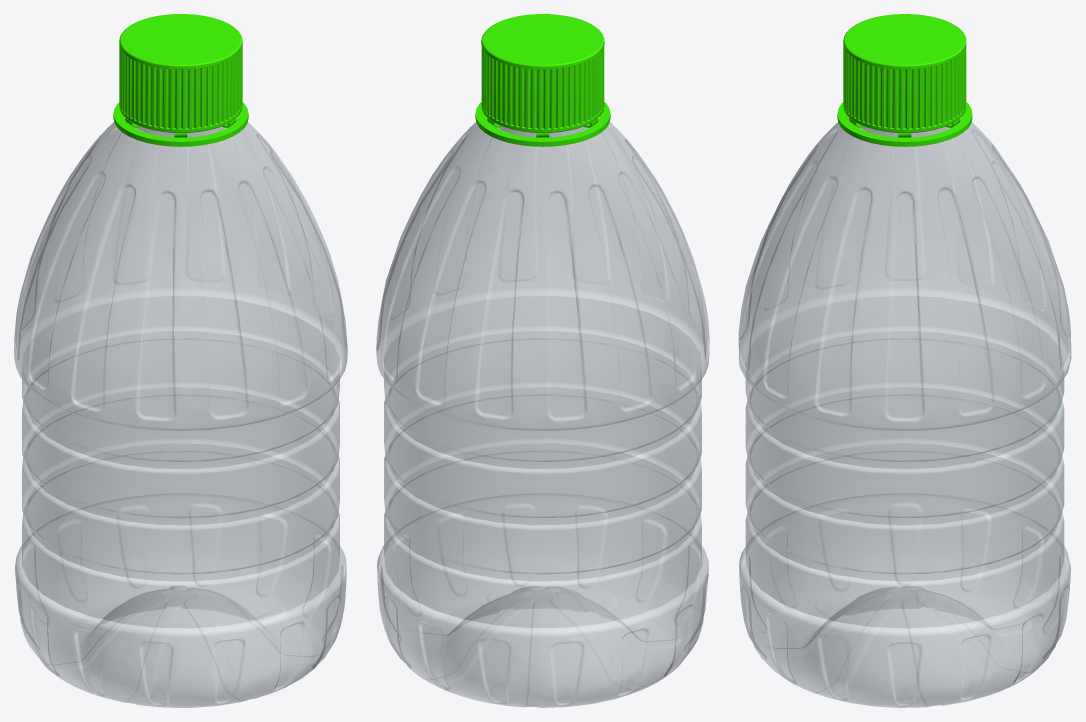
Rendered from bottle_a.glb.
The picture shows the model from 3 angles, left to right: view 1: azimuth 30°, elevation 25°; view 2: azimuth 150°, elevation 25°; view 3: azimuth 270°, elevation 25°; orthographic projection.
Visible parts, largest first — view 1: Object_3, Object_2; view 2: Object_3, Object_2; view 3: Object_3, Object_2.
Boxes of the visible parts, x1,y1,x2,y2 form: Object_3: [14, 116, 347, 707]; Object_2: [113, 14, 248, 146]; Object_3: [376, 116, 709, 707]; Object_2: [475, 14, 610, 146]; Object_3: [738, 116, 1071, 707]; Object_2: [837, 14, 972, 146].
Size of the model in its own units: 6.12 by 12.44 by 6.13.
